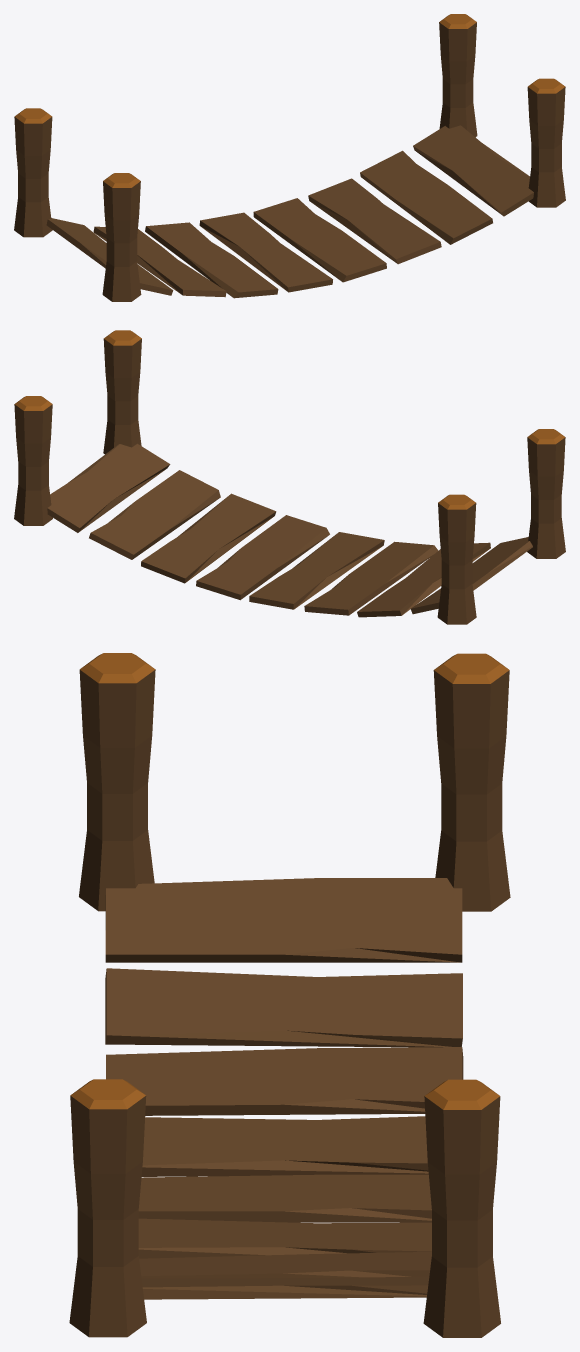
Rendered from Bridge_Timber_Hanging_Small_01.fbx.
The picture shows the model from 3 angles, top to bottom: view 1: azimuth 30°, elevation 25°; view 2: azimuth 150°, elevation 25°; view 3: azimuth 270°, elevation 25°; orthographic projection. The views are drawn at different scales.
Visible parts, largest first — view 1: Bridge_Timber_Hanging_Small_01; view 2: Bridge_Timber_Hanging_Small_01; view 3: Bridge_Timber_Hanging_Small_01.
Boxes of the visible parts, left/top/right/bottom form: Bridge_Timber_Hanging_Small_01: left=14, top=14, right=565, bottom=301; Bridge_Timber_Hanging_Small_01: left=14, top=330, right=565, bottom=624; Bridge_Timber_Hanging_Small_01: left=69, top=653, right=510, bottom=1337.
Size of the model in its own units: 211 by 69.49 by 89.43.
